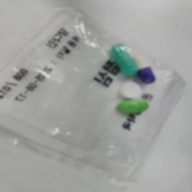휴티렌정: (115, 99, 150, 115)
